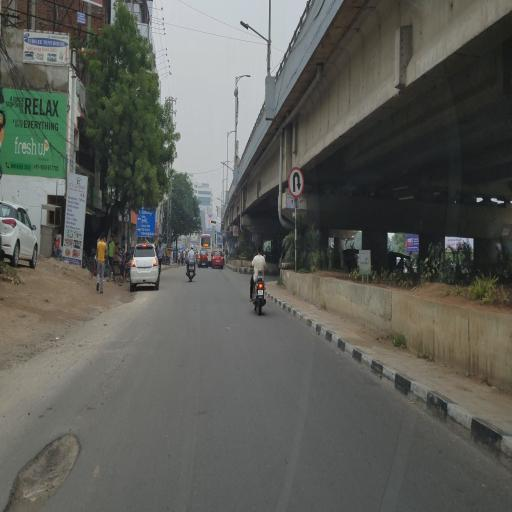street_light_0: (240, 6, 275, 44), (220, 148, 237, 178), (234, 63, 254, 81), (224, 121, 240, 143)
